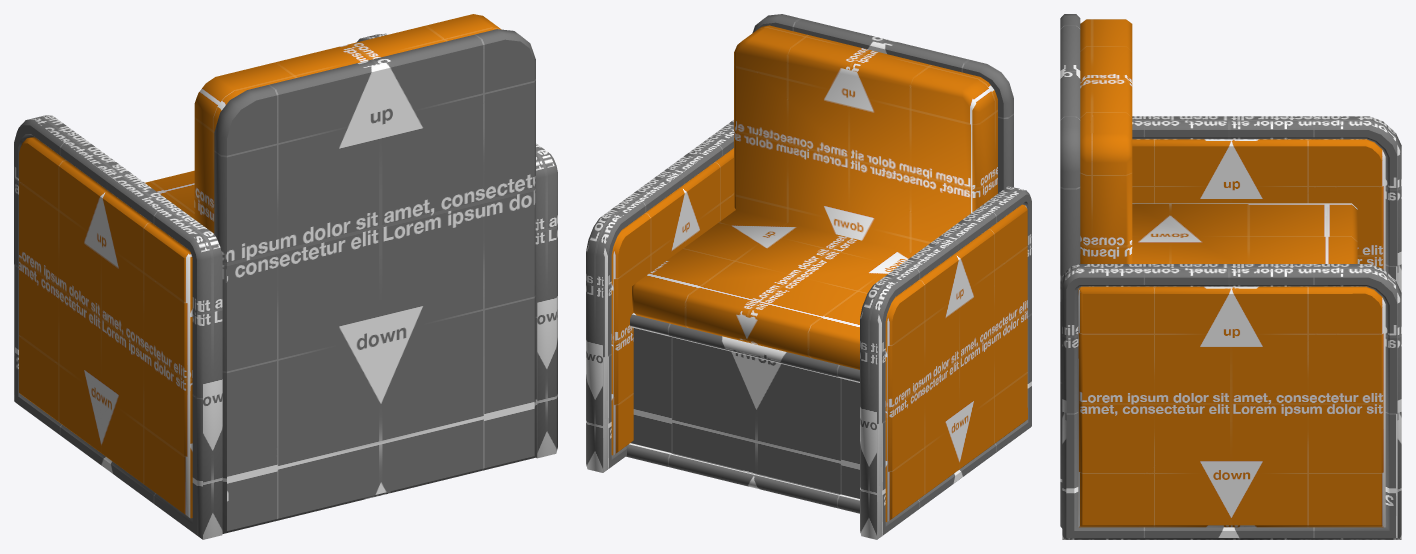
Rendered from armchair.glb.
3 views of the same model, side by side, from view 1: azimuth 30°, elevation 25°; view 2: azimuth 150°, elevation 25°; view 3: azimuth 270°, elevation 25° (orthographic). The views are drawn at different scales.
Parts seen in each view (by area): view 1: seat; view 2: seat; view 3: seat.
Part boxes in pixels (x1,y1,x2,y2): seat: (14, 14, 557, 539); seat: (586, 14, 1031, 539); seat: (1060, 14, 1401, 539).
Size of what is drawn, in the model's own units: 0.965 by 1.08 by 0.855.
2 materials, 2 textured.
